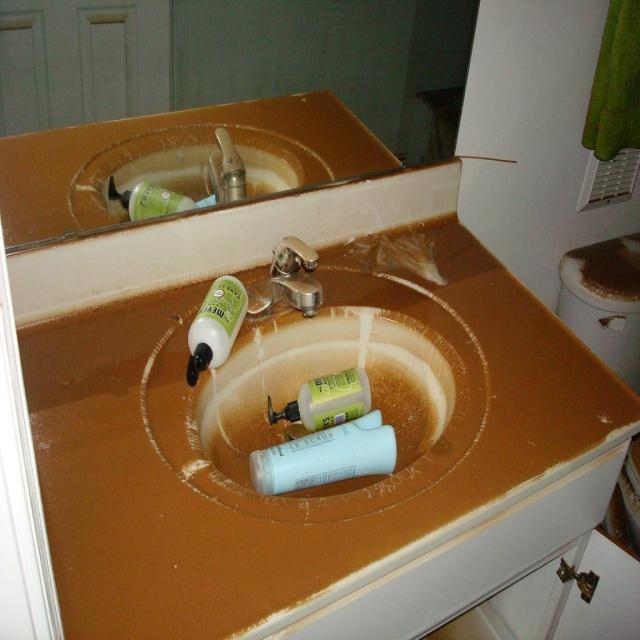Metal: (257, 222, 334, 319)
Plastics: (246, 360, 414, 490), (156, 236, 250, 386)
